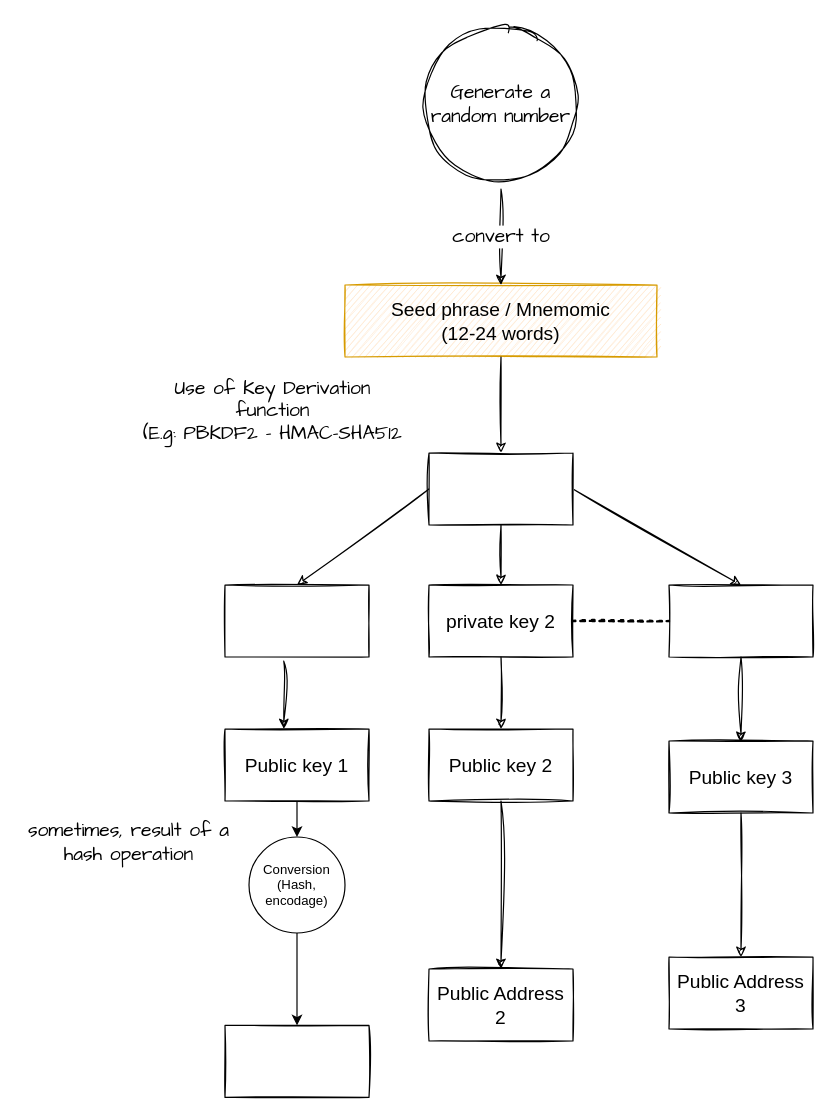
Image size: 834x1118. Some labels were removed from this diagram. The shapes that lost their labels are listed below. From the top down, each one's box as (x1, y1, x2, y2) in pixels, then its label:
(428, 452, 573, 525): master private key
(224, 584, 369, 657): private key 1
(668, 584, 813, 657): private key n
(224, 1024, 369, 1097): Public Address 1
